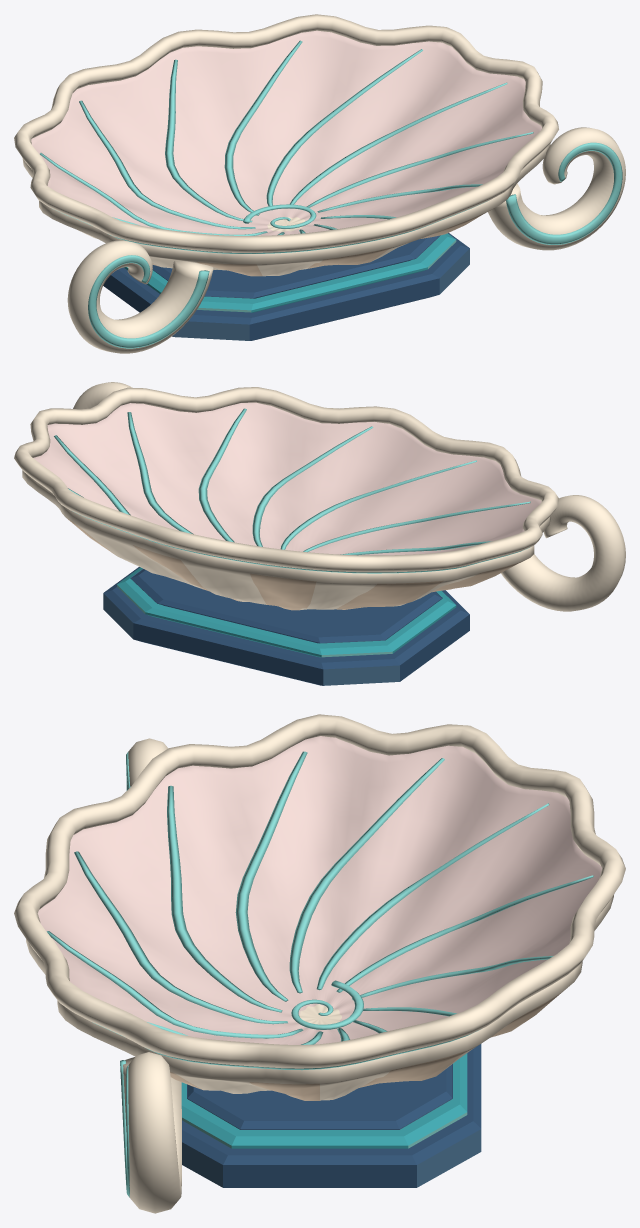
File: nautilus-shell.glb
3 views of the same model, one above another, from view 1: azimuth 30°, elevation 25°; view 2: azimuth 150°, elevation 25°; view 3: azimuth 270°, elevation 25° (orthographic). The views are drawn at different scales.
Parts seen in each view (by area): view 1: Shell_ContinuousThickBasin, Shell_RolledIvoryLip, Base_OctagonalBlueStone, Volute_Left_IvoryScroll, Volute_Right_IvoryScroll, Base_UpperBlueCollar, Base_TurquoiseInsetBand, Volute_Left_AquaInlay, Volute_Right_AquaInlay, InnerSpiralRib_03, InnerSpiralRib_04, InnerSpiralRib_02 (+7 smaller); view 2: Shell_ContinuousThickBasin, Shell_RolledIvoryLip, Base_OctagonalBlueStone, Base_UpperBlueCollar, Volute_Left_IvoryScroll, Base_TurquoiseInsetBand, InnerSpiralRib_11, InnerSpiralRib_10, InnerSpiralRib_12, InnerSpiralRib_09, InnerSpiralRib_08, Volute_Right_IvoryScroll (+3 smaller); view 3: Shell_ContinuousThickBasin, Shell_RolledIvoryLip, Base_OctagonalBlueStone, Base_UpperBlueCollar, Volute_Right_IvoryScroll, Base_TurquoiseInsetBand, InnerSpiralRib_07, InnerSpiralRib_08, InnerSpiralRib_06, InnerSpiralRib_09, InnerSpiralRib_05, InnerSpiralRib_10 (+5 smaller).
Part boxes in pixels (box(x1,y1,x2,y2)): Shell_ContinuousThickBasin: box(22, 30, 550, 276); Shell_RolledIvoryLip: box(14, 14, 558, 252); Base_OctagonalBlueStone: box(103, 233, 469, 340); Volute_Left_IvoryScroll: box(67, 240, 213, 353); Volute_Right_IvoryScroll: box(488, 127, 625, 250); Base_UpperBlueCollar: box(152, 235, 440, 298); Base_TurquoiseInsetBand: box(124, 233, 456, 312); Volute_Left_AquaInlay: box(88, 255, 209, 348); Volute_Right_AquaInlay: box(506, 142, 622, 244); InnerSpiralRib_03: box(224, 40, 302, 215); InnerSpiralRib_04: box(165, 59, 252, 222); InnerSpiralRib_02: box(266, 49, 422, 210); Shell_ContinuousThickBasin: box(22, 402, 550, 610); Shell_RolledIvoryLip: box(14, 387, 558, 572); Base_OctagonalBlueStone: box(103, 567, 469, 685); Base_UpperBlueCollar: box(130, 568, 442, 643); Volute_Left_IvoryScroll: box(501, 495, 625, 611); Base_TurquoiseInsetBand: box(117, 567, 456, 657); InnerSpiralRib_11: box(198, 408, 246, 542); InnerSpiralRib_10: box(252, 426, 373, 546); InnerSpiralRib_12: box(127, 412, 193, 534); InnerSpiralRib_09: box(280, 460, 476, 549); InnerSpiralRib_08: box(303, 501, 530, 552); Volute_Right_IvoryScroll: box(73, 382, 132, 409); Shell_ContinuousThickBasin: box(26, 736, 613, 1100); Shell_RolledIvoryLip: box(14, 714, 625, 1068); Base_OctagonalBlueStone: box(182, 1044, 481, 1187); Base_UpperBlueCollar: box(187, 1064, 452, 1129); Volute_Right_IvoryScroll: box(123, 1052, 181, 1213); Base_TurquoiseInsetBand: box(181, 1053, 467, 1148); InnerSpiralRib_07: box(235, 751, 307, 1001); InnerSpiralRib_08: box(167, 785, 282, 1012); InnerSpiralRib_06: box(289, 758, 444, 993); InnerSpiralRib_09: box(74, 851, 287, 1024); InnerSpiralRib_05: box(316, 803, 549, 990); InnerSpiralRib_10: box(47, 931, 303, 1038).
Size of the model in its own units: 6.85 by 1.99 by 4.74.
